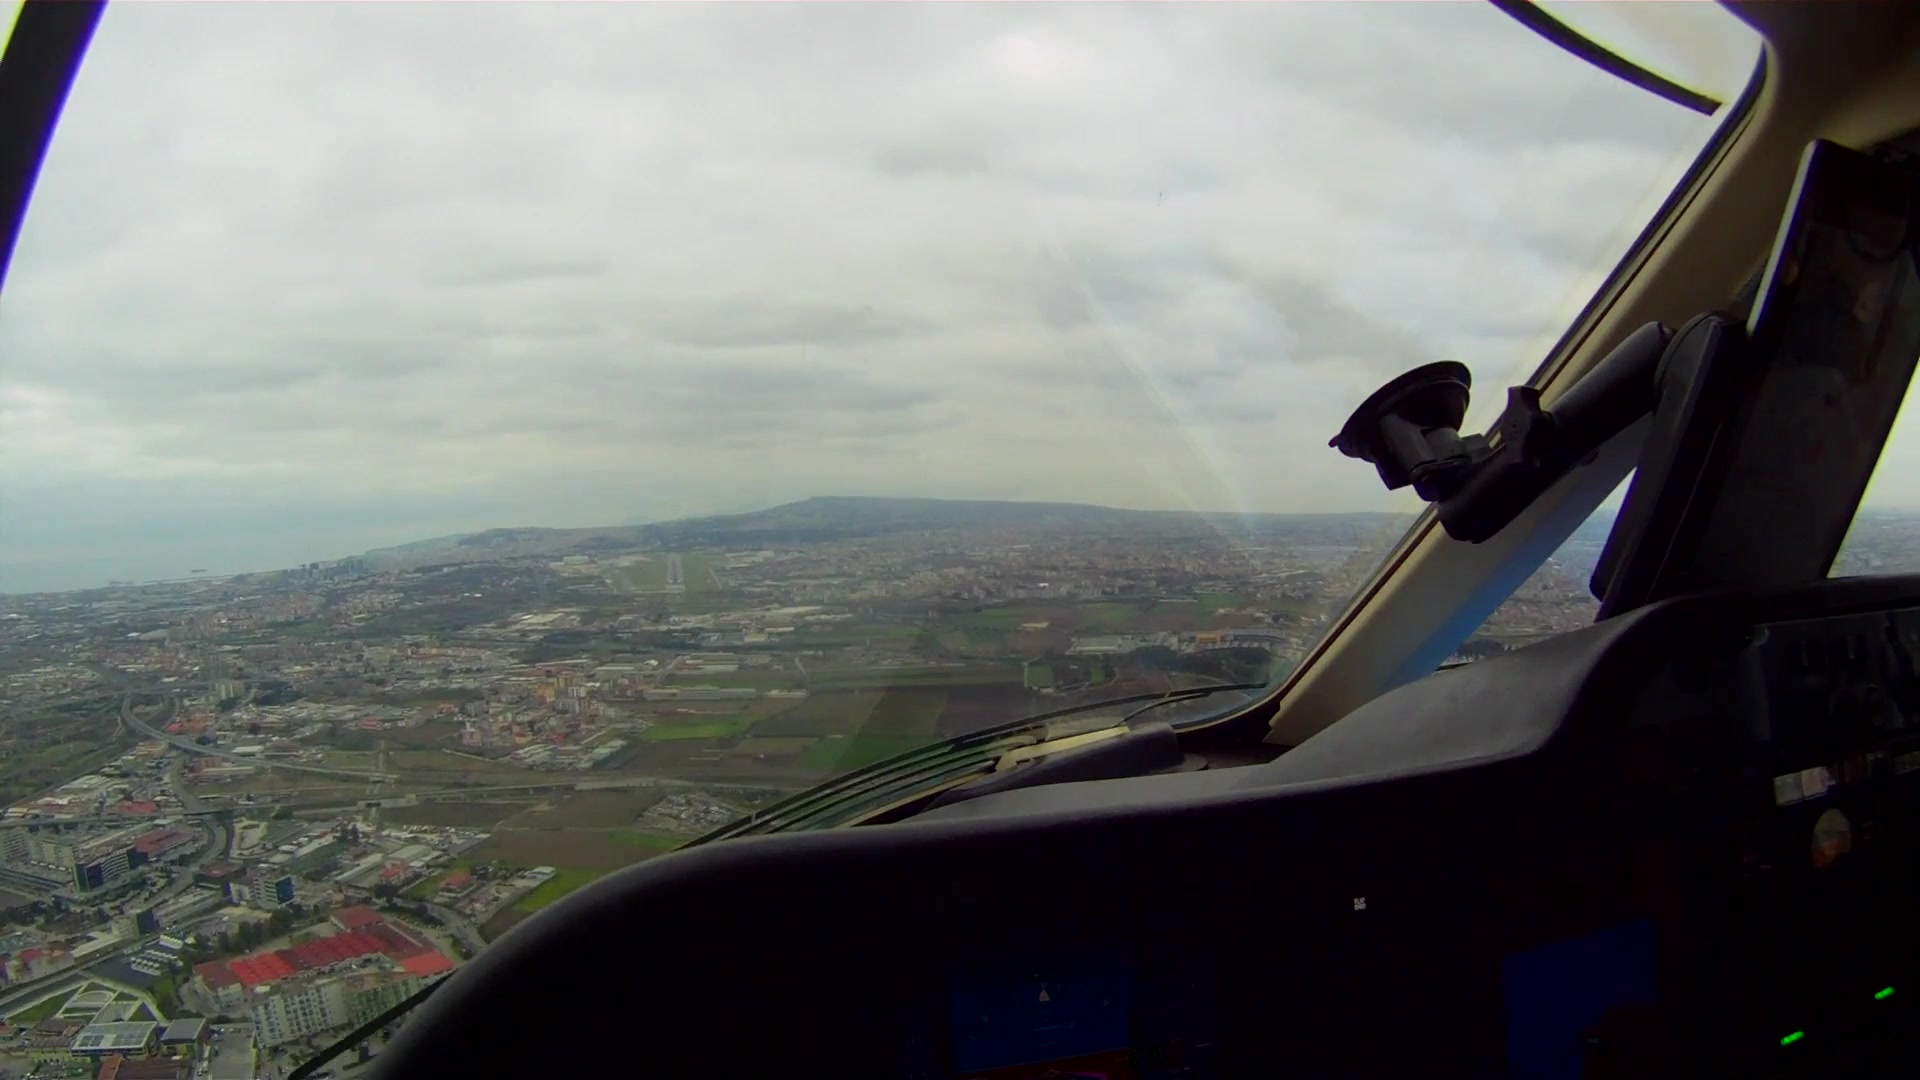runway: (665, 551, 684, 585)
